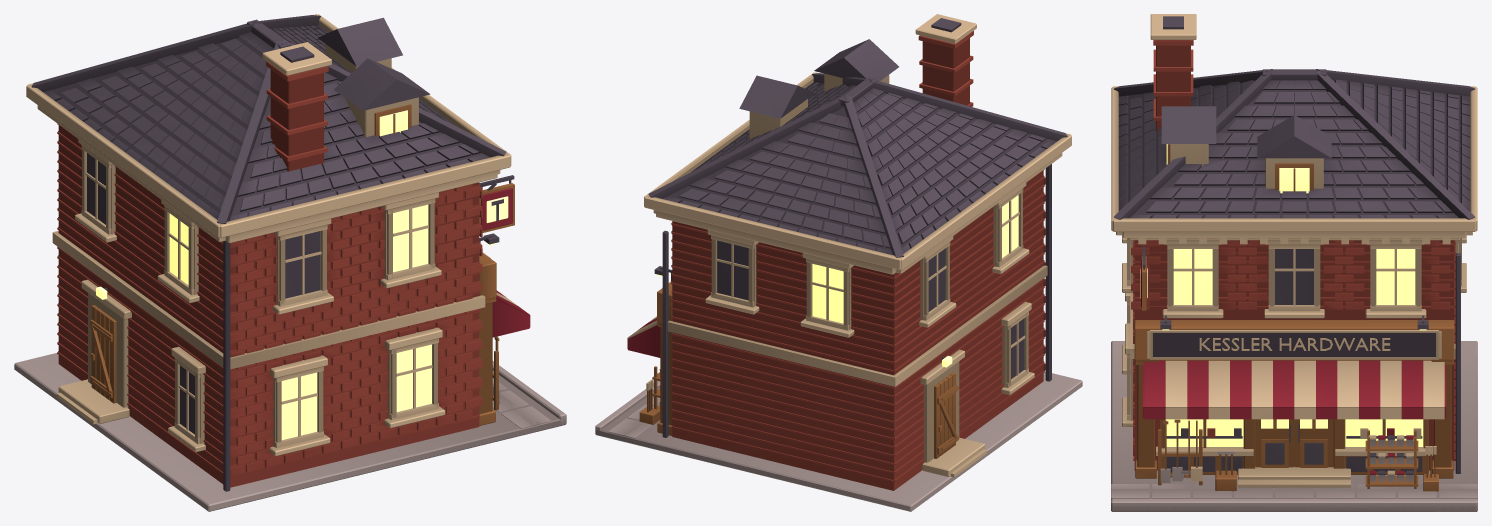
The model's file is bld.kessler-hardware.glb.
The picture shows the model from 3 angles, left to right: view 1: azimuth 30°, elevation 25°; view 2: azimuth 150°, elevation 25°; view 3: azimuth 270°, elevation 25°; orthographic projection. The views are drawn at different scales.
Visible parts, largest first — view 1: body, door_cellar; view 2: body, door_cellar; view 3: body.
Part boxes in pixels (x1,y1,x2,y2): body: (14,14,566,511); door_cellar: (90,305,116,403); body: (595,14,1082,511); door_cellar: (934,372,958,458); body: (1111,14,1477,511).
Size of the model in its own units: 10.08 by 10.8 by 9.4.
